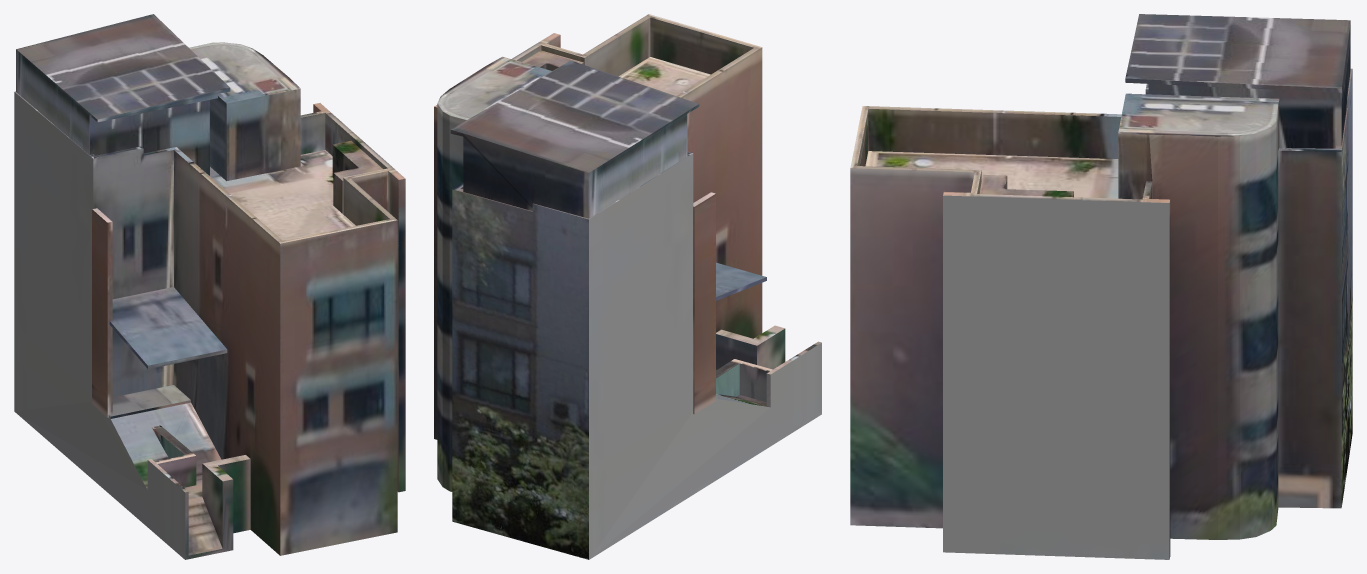
3 renders of one model, left to right at view 1: azimuth 30°, elevation 25°; view 2: azimuth 150°, elevation 25°; view 3: azimuth 270°, elevation 25°, orthographic. The views are drawn at different scales.
Visible parts, largest first — view 1: B280684041201063A0; view 2: B280684041201063A0; view 3: B280684041201063A0.
Part boxes in pixels (x1,y1,x2,y2): B280684041201063A0: (14,14,405,559); B280684041201063A0: (434,14,821,559); B280684041201063A0: (850,14,1352,559).
Bounding box in the file's own units: 8.83 × 12.43 × 13.45.
Materials: 1 (1 with a texture image).
